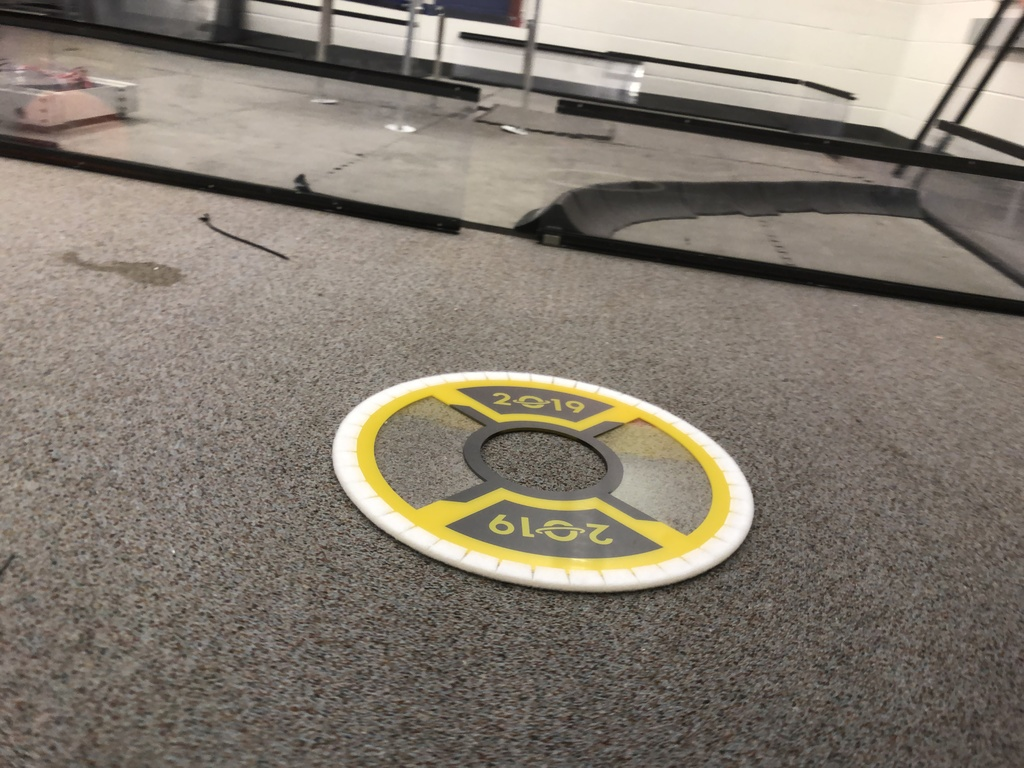hatch_panel: (322, 346, 773, 599)
